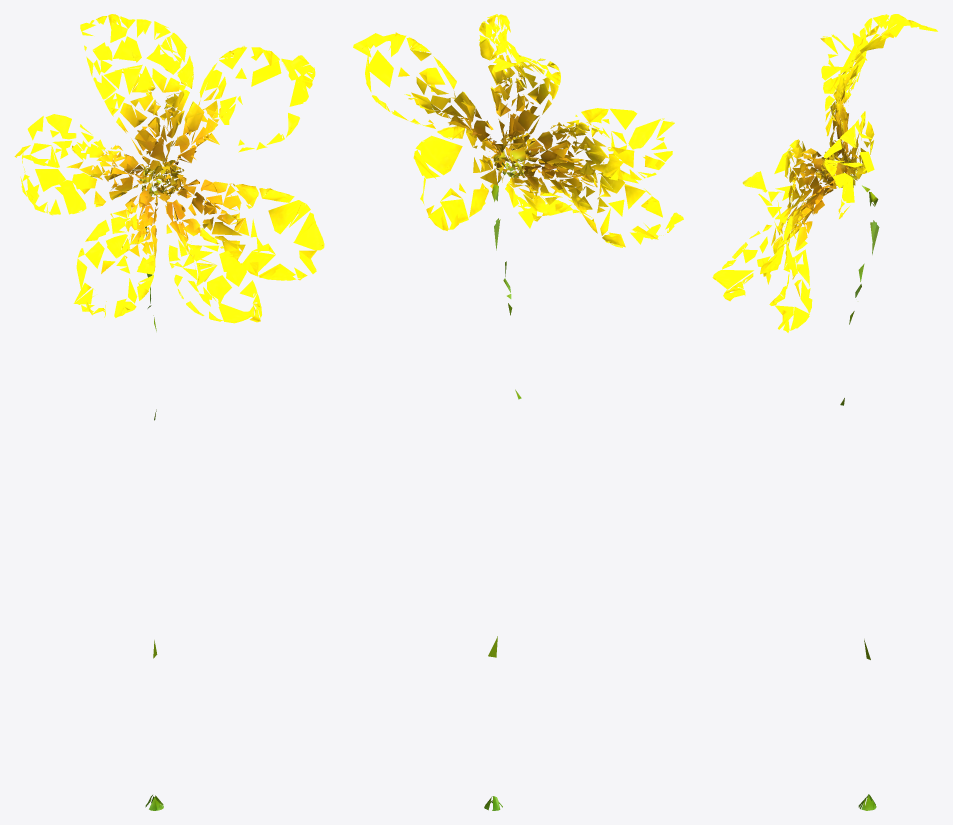
File: wildflower.glb
The picture shows the model from 3 angles, left to right: view 1: azimuth 30°, elevation 25°; view 2: azimuth 150°, elevation 25°; view 3: azimuth 270°, elevation 25°; orthographic projection.
Visible parts, largest first — view 1: Mesh_0; view 2: Mesh_0; view 3: Mesh_0.
Part boxes in pixels (x1,y1,x2,y2): Mesh_0: (14,14,324,810); Mesh_0: (353,14,683,810); Mesh_0: (712,14,937,810).
Bounding box in the file's own units: 0.3978 × 0.999 × 0.262.
1 material, 1 textured.
